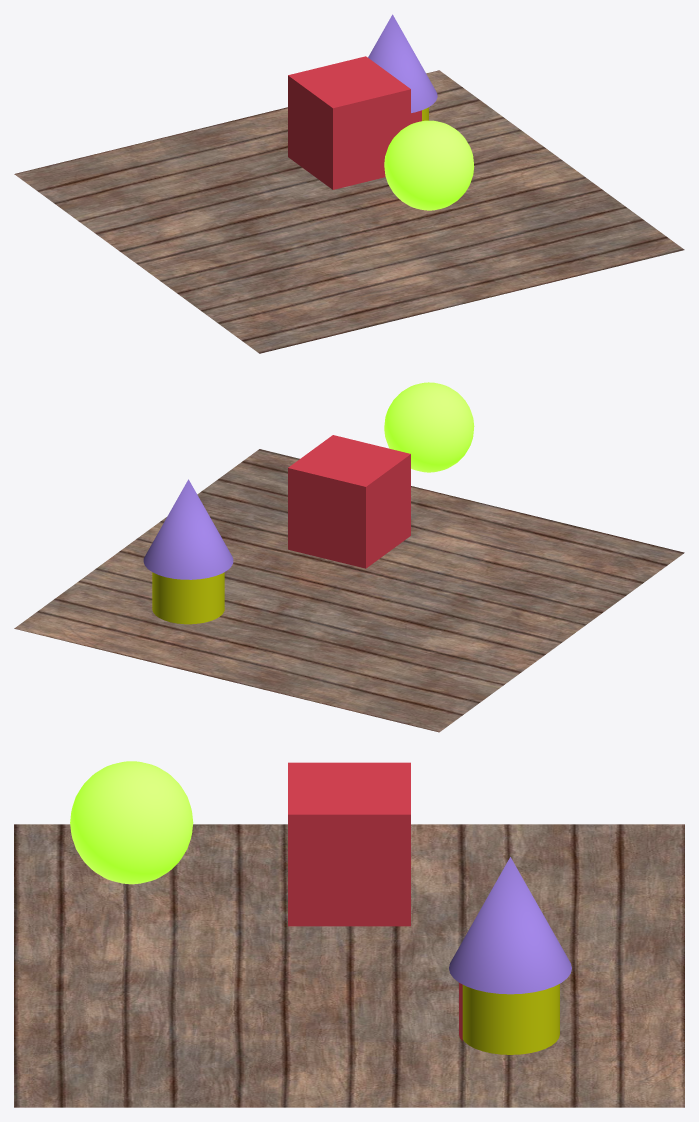
3 renders of one model, top to bottom at view 1: azimuth 30°, elevation 25°; view 2: azimuth 150°, elevation 25°; view 3: azimuth 270°, elevation 25°, orthographic. The views are drawn at different scales.
Visible parts, largest first — view 1: Plane, Cube, Sphere, Cone; view 2: Plane, Cube, Cone, Sphere; view 3: Plane, Cube, Cone, Sphere.
Boxes of the visible parts, left/top/right/bottom form: Plane: left=14, top=70, right=684, bottom=353; Cube: left=288, top=56, right=410, bottom=189; Sphere: left=384, top=120, right=474, bottom=210; Cone: left=368, top=14, right=437, bottom=123; Plane: left=14, top=449, right=684, bottom=732; Cube: left=288, top=435, right=410, bottom=568; Cone: left=143, top=479, right=233, bottom=624; Sphere: left=384, top=382, right=474, bottom=472; Plane: left=14, top=824, right=684, bottom=1107; Cube: left=288, top=762, right=410, bottom=926; Cone: left=449, top=857, right=571, bottom=1054; Sphere: left=70, top=761, right=193, bottom=884.
Bounding box in the file's own units: 10.89 × 3.57 × 10.89.
Materials: 5 (1 with a texture image).
